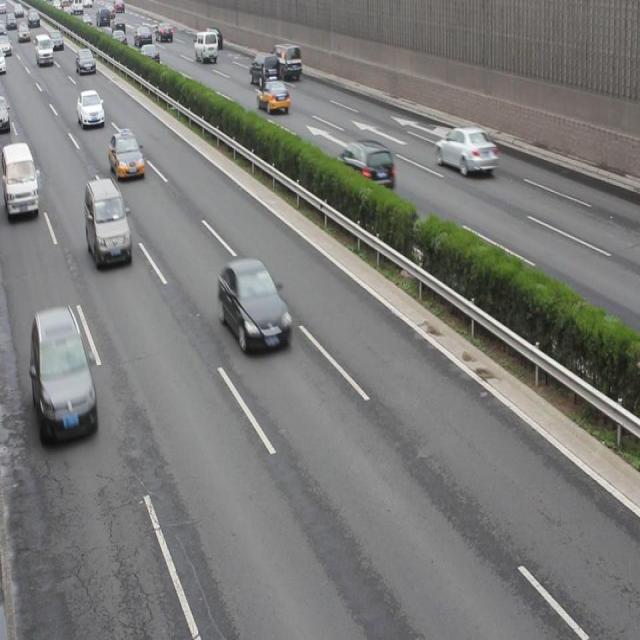car: (31, 310, 98, 444), (218, 261, 292, 352), (334, 139, 393, 193), (434, 126, 496, 176), (109, 129, 145, 179), (257, 78, 289, 112), (76, 91, 105, 127), (76, 48, 96, 74), (138, 43, 160, 65), (134, 27, 152, 49), (204, 28, 222, 48), (156, 22, 173, 43), (111, 28, 126, 45)
truck: (84, 178, 132, 266), (1, 142, 40, 219), (250, 54, 279, 86), (272, 45, 300, 77), (194, 32, 217, 62), (37, 34, 53, 66)
